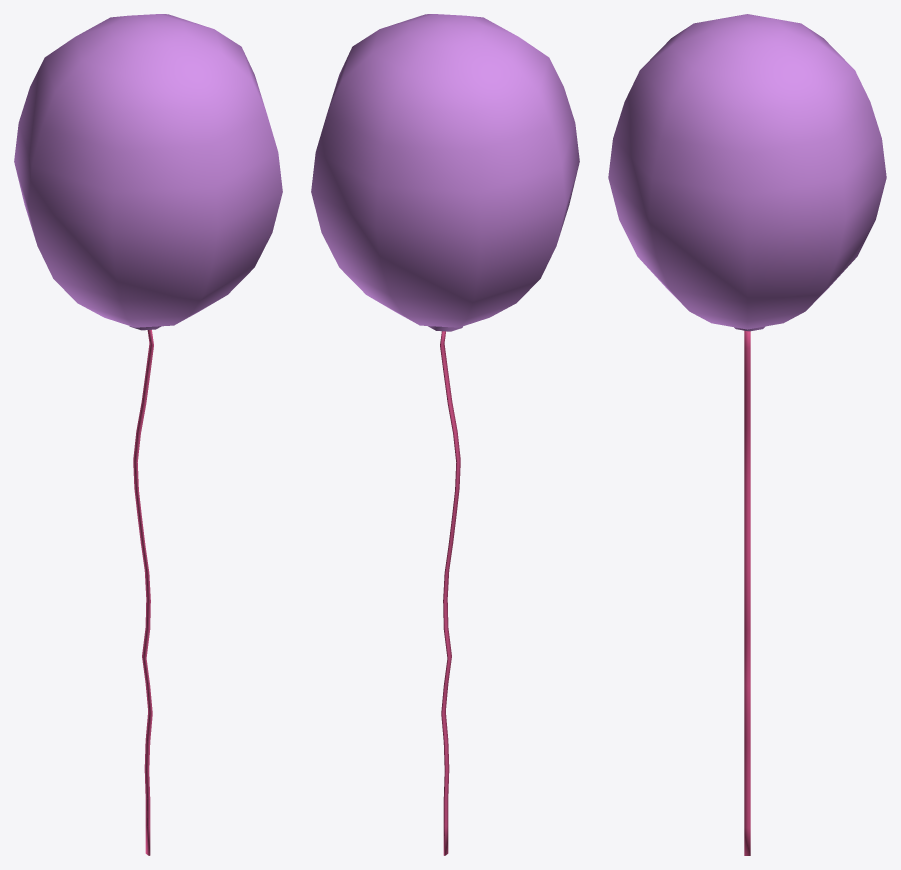
File: balloon2.fbx
3 views of the same model, side by side, from view 1: azimuth 30°, elevation 25°; view 2: azimuth 150°, elevation 25°; view 3: azimuth 270°, elevation 25° (orthographic).
Visible parts, largest first — view 1: balloon2; view 2: balloon2; view 3: balloon2.
Boxes of the visible parts, x1,y1,x2,y2 form: balloon2: (14,14,282,855); balloon2: (311,14,579,855); balloon2: (608,14,886,855).
Size of the model in its own units: 183 by 602 by 183.
